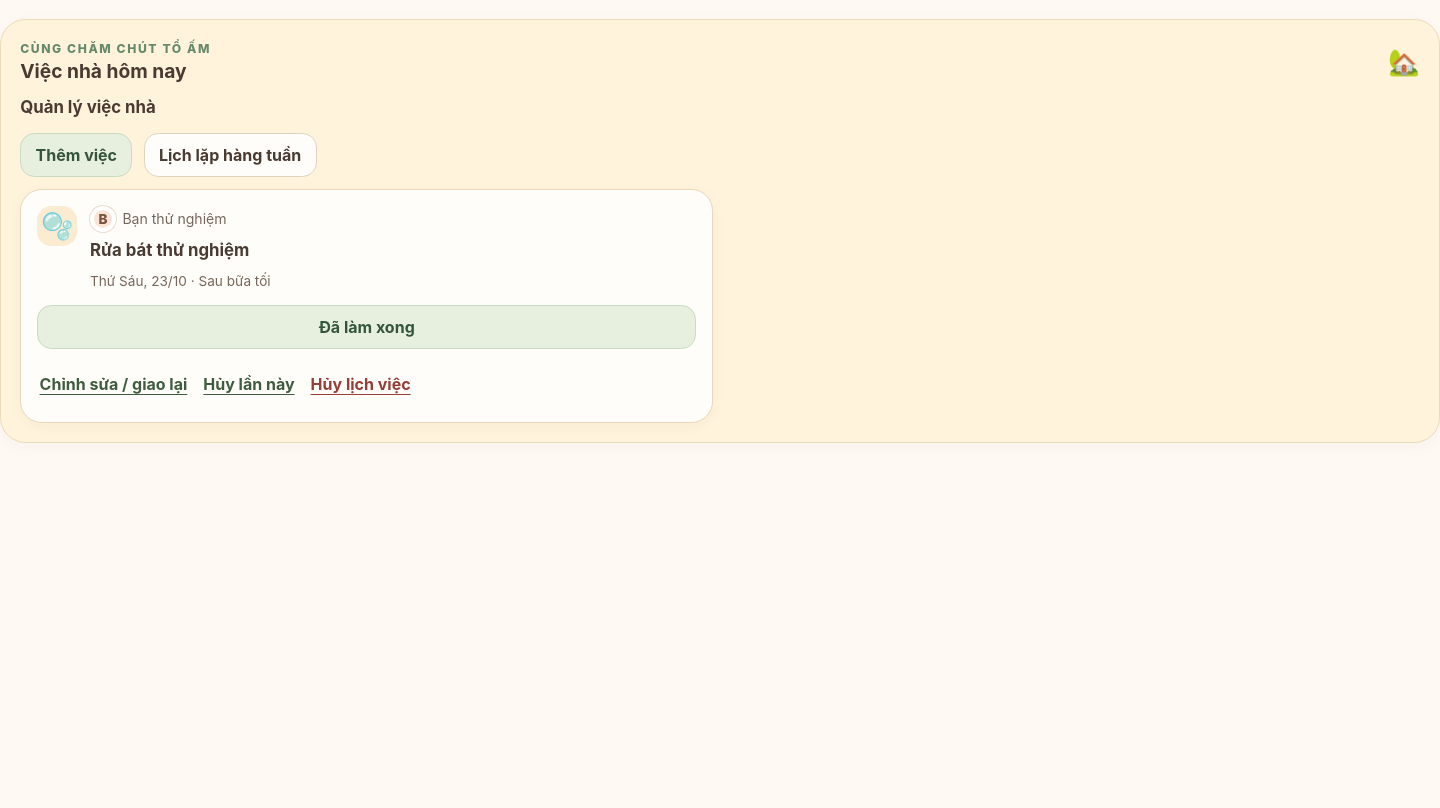
family chores UI › parent edits/reassigns an existing chore rather than duplicating it
Click the button "Chỉnh sửa / giao lại" at (113, 384), box [37,362,190,406]
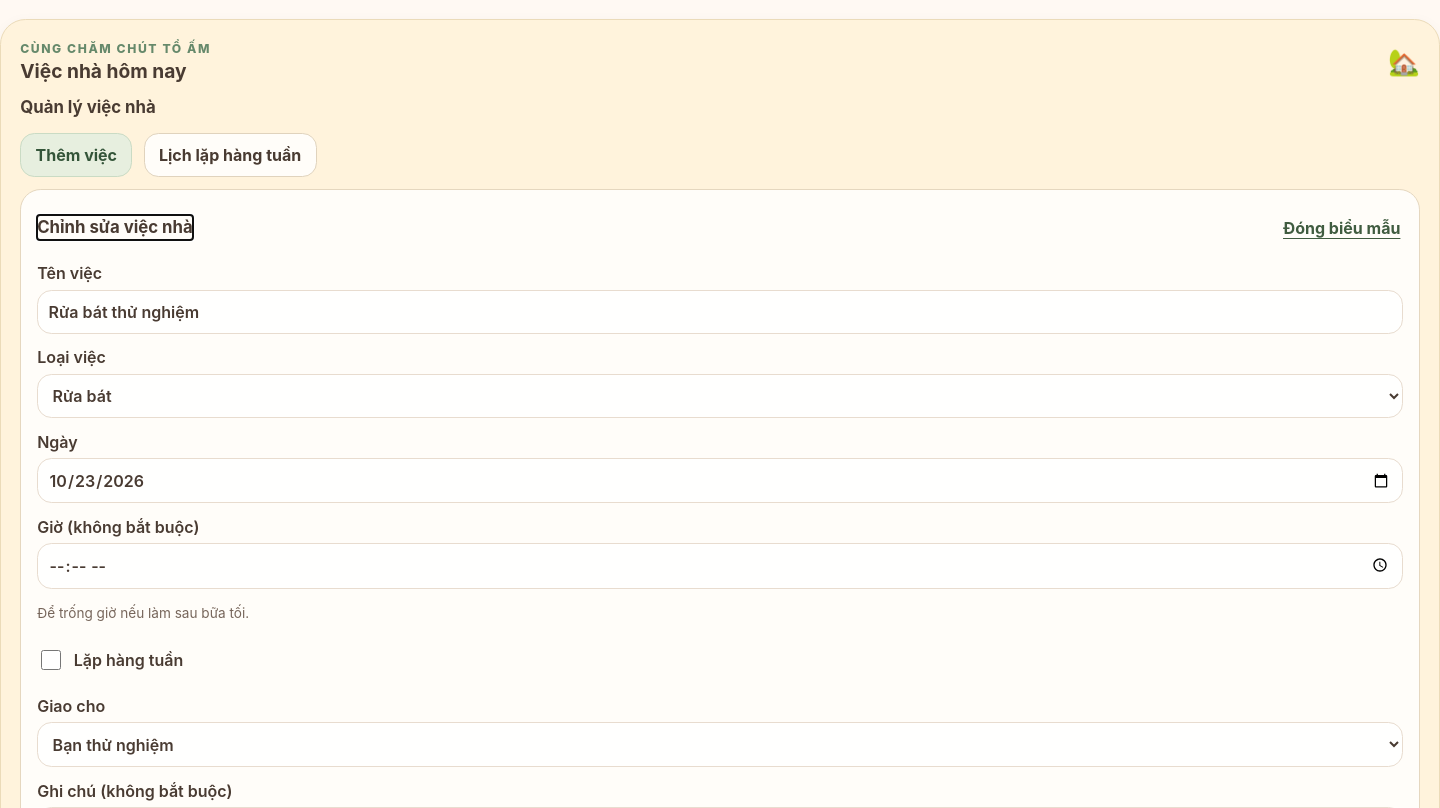
Replace the text in the field labelled "Tên việc" with "Việc đã đổi" at (720, 312), box [37,290,1403,334]
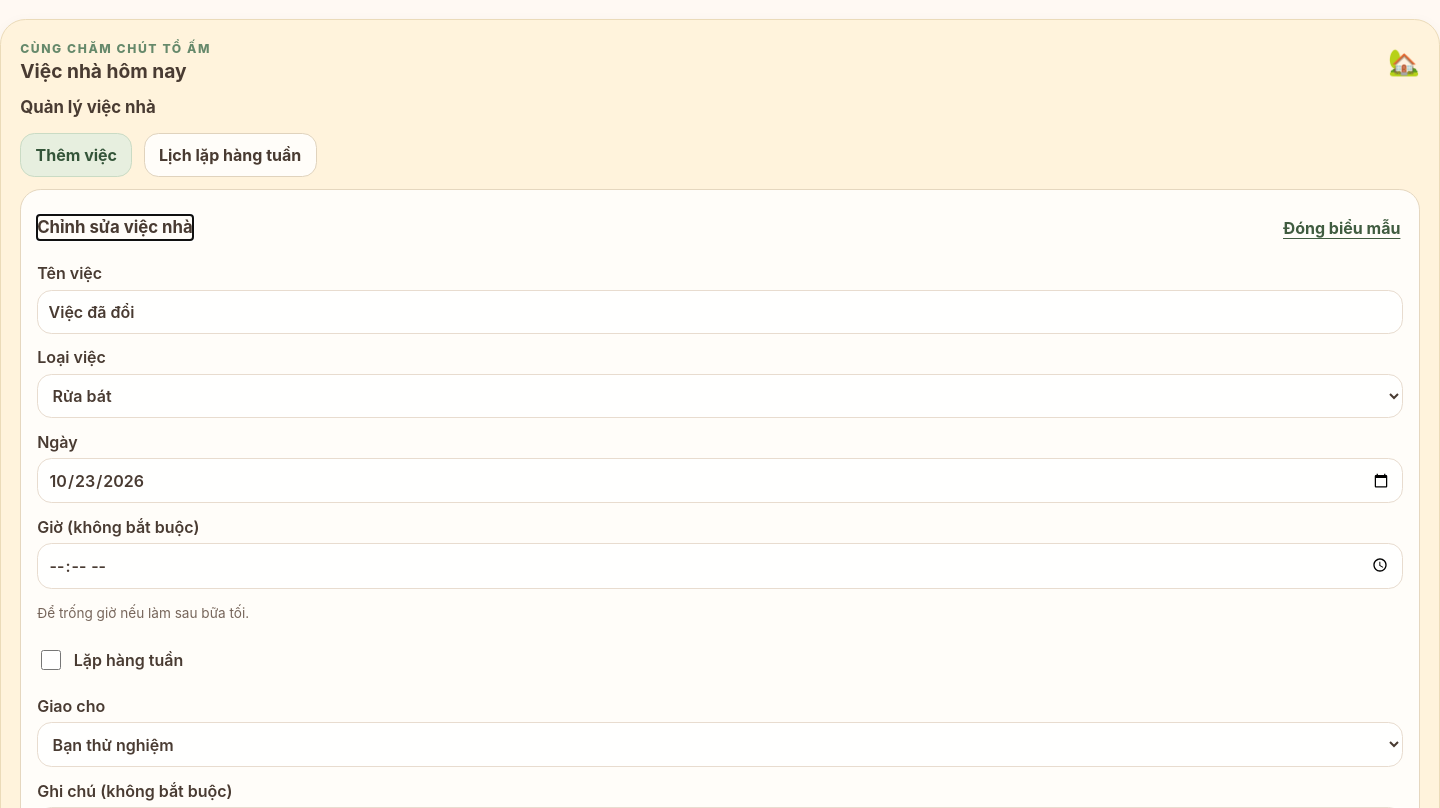
Select "Người nhà thử nghiệm" in the dropdown labelled "Giao cho" at (720, 745), box [37,722,1403,767]
(page scrolled)
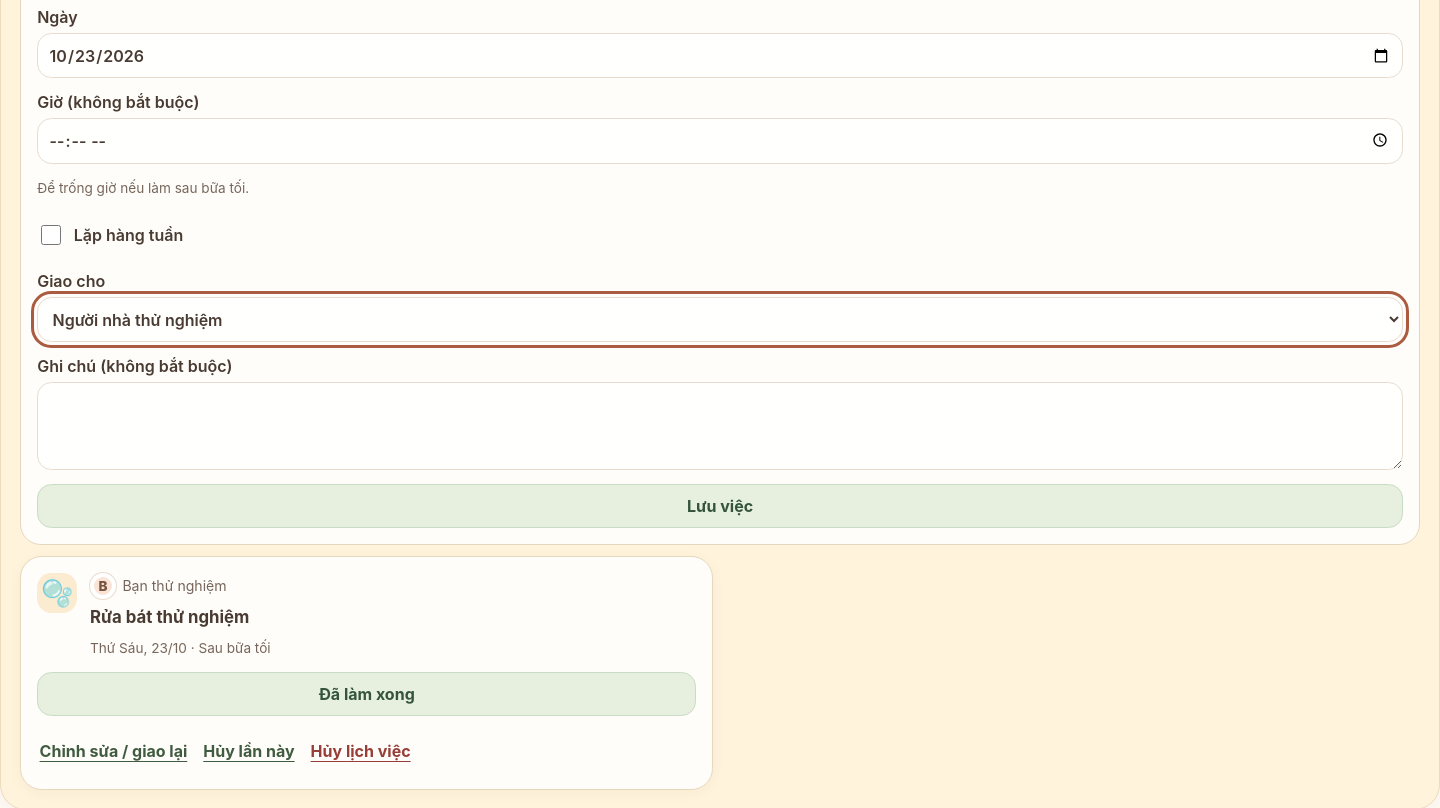
Click the button "Lưu việc" at (720, 506), box [37,484,1403,528]
(page scrolled)
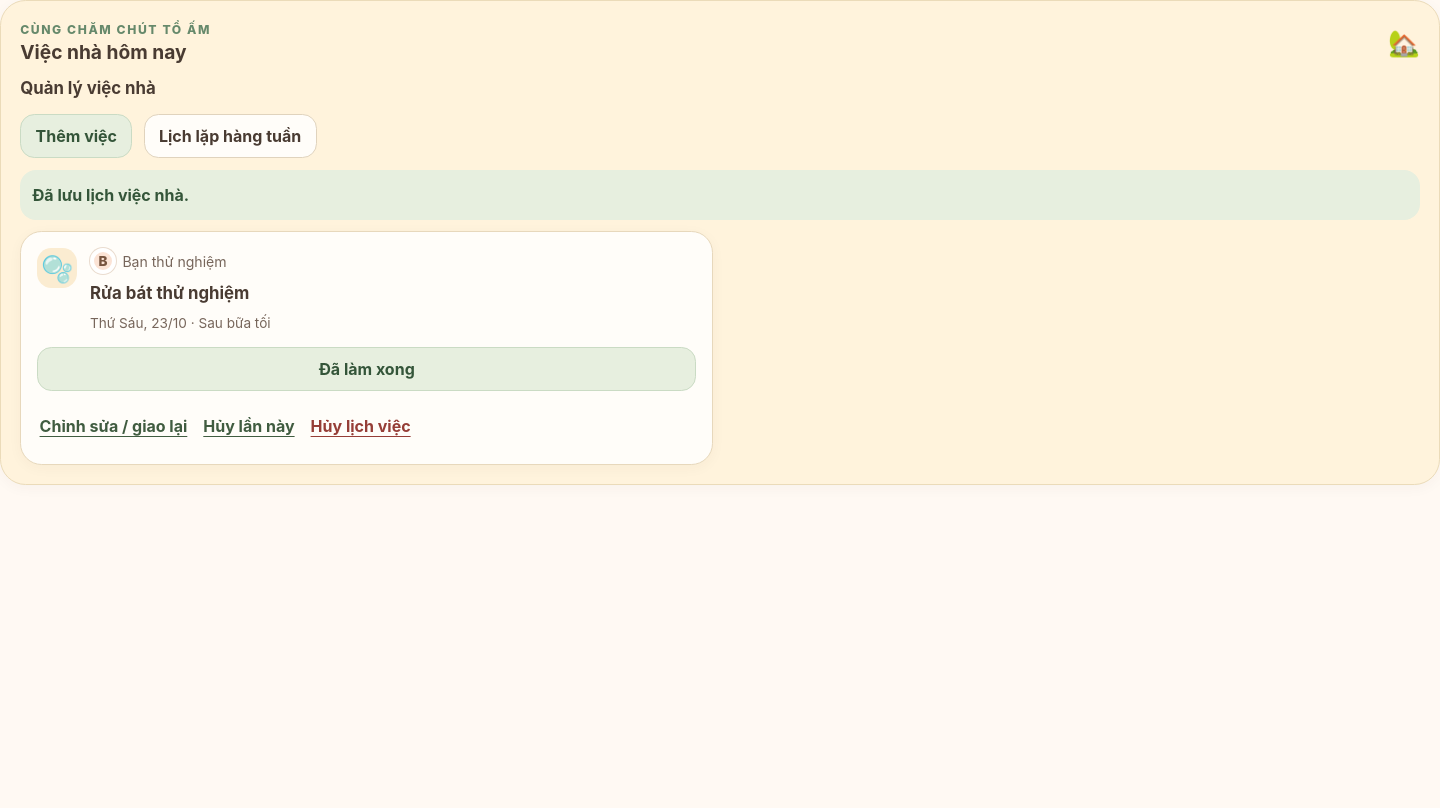
Expected: the text "Đã lưu lịch việc nhà." is shown, [20,170,1420,220]
